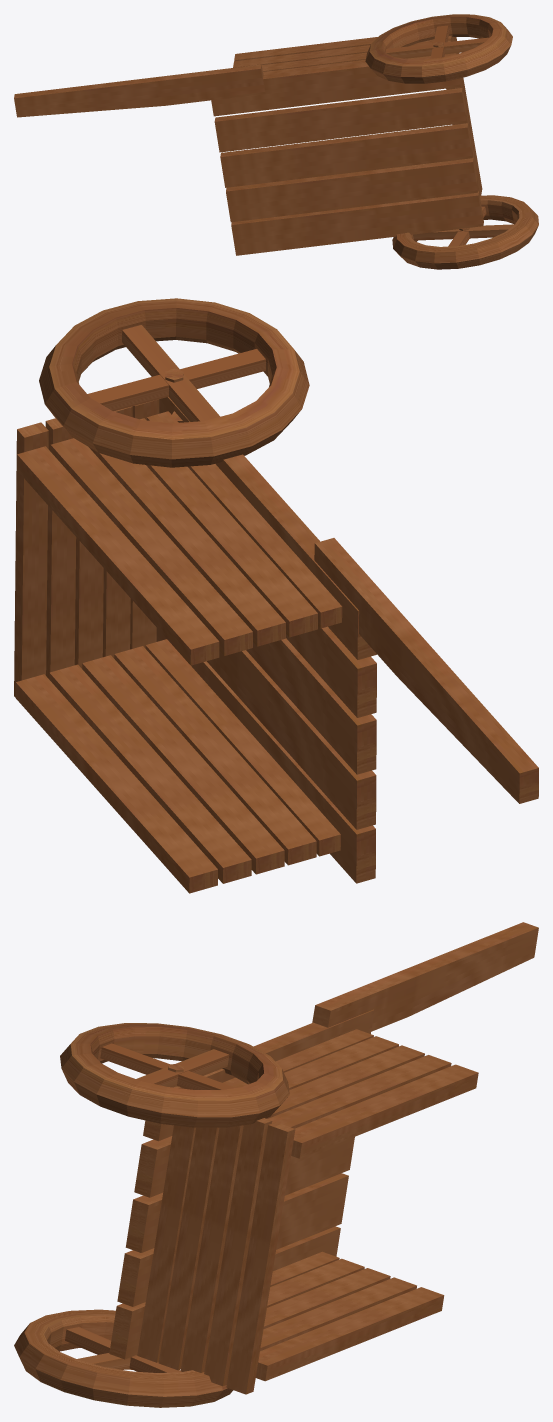
The model's file is cart.obj.
The picture shows the model from 3 angles, top to bottom: view 1: azimuth 30°, elevation 25°; view 2: azimuth 150°, elevation 25°; view 3: azimuth 270°, elevation 25°; orthographic projection. The views are drawn at different scales.
Parts seen in each view (by area): view 1: Cart, Torus.002; view 2: Cart, Torus.002; view 3: Cart, Torus.002.
Part boxes in pixels (bbox=[...]): Cart: bbox=[14, 35, 538, 269]; Torus.002: bbox=[365, 14, 512, 83]; Cart: bbox=[14, 397, 538, 893]; Torus.002: bbox=[39, 298, 309, 467]; Cart: bbox=[14, 922, 538, 1407]; Torus.002: bbox=[60, 1023, 289, 1127].
Size of the model in its own units: 2.24 by 1.22 by 1.68.
1 material, 1 textured.
